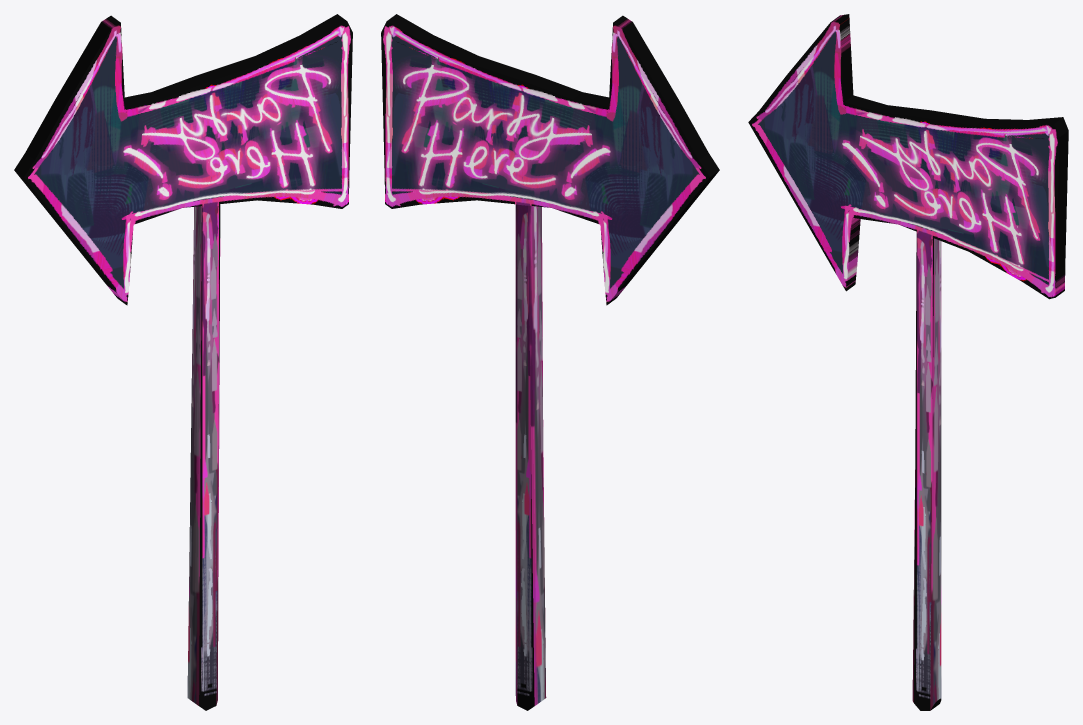
File: party here.glb
3 views of the same model, side by side, from view 1: azimuth 30°, elevation 25°; view 2: azimuth 150°, elevation 25°; view 3: azimuth 330°, elevation 25° (orthographic). The views are drawn at different scales.
Parts seen in each view (by area): view 1: Plane.008; view 2: Plane.008; view 3: Plane.008.
Part boxes in pixels (bbox=[...]): Plane.008: bbox=[14, 14, 352, 710]; Plane.008: bbox=[381, 14, 719, 710]; Plane.008: bbox=[748, 14, 1068, 710].
Size of the model in its own units: 2.44 by 5.02 by 0.1298.
2 materials, 2 textured.
